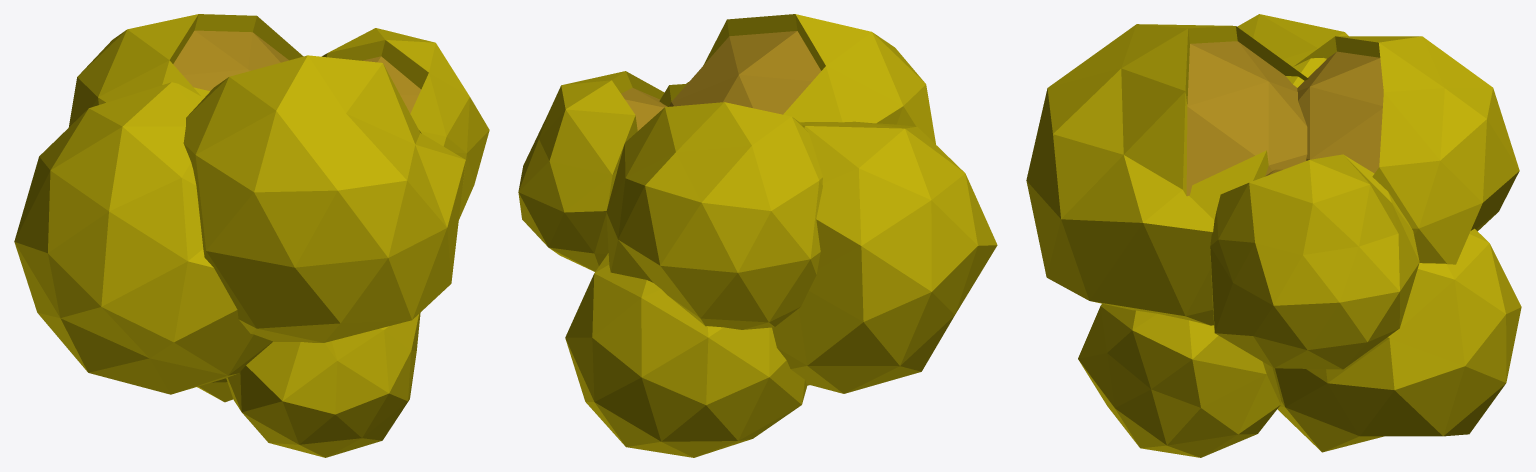
The model's file is Popcorinka3.fbx.
The picture shows the model from 3 angles, left to right: view 1: azimuth 30°, elevation 25°; view 2: azimuth 150°, elevation 25°; view 3: azimuth 270°, elevation 25°; orthographic projection. The views are drawn at different scales.
Parts seen in each view (by area): view 1: Icosphere.002, Icosphere.007; view 2: Icosphere.002, Icosphere.007; view 3: Icosphere.002, Icosphere.007.
Boxes of the visible parts, <box> form: Icosphere.002: <box>14,14,489,457</box>; Icosphere.007: <box>173,30,421,113</box>; Icosphere.002: <box>518,14,997,457</box>; Icosphere.007: <box>621,31,820,130</box>; Icosphere.002: <box>1026,14,1521,457</box>; Icosphere.007: <box>1186,41,1383,196</box>.
Size of the model in its own units: 48.06 by 40.96 by 44.28.
